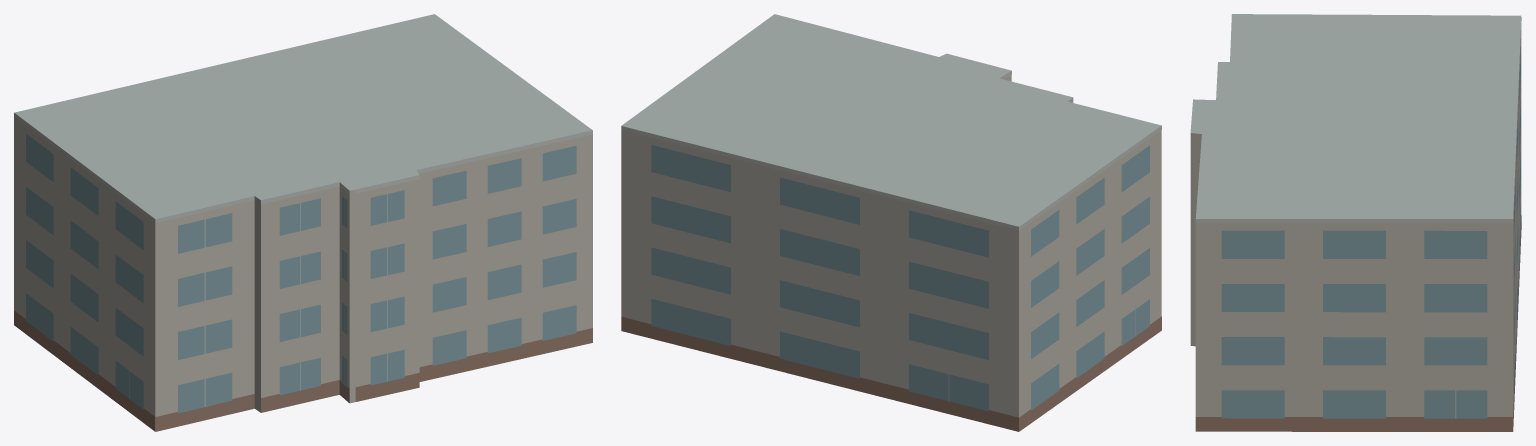
Rendered from survey-upis-32468548.glb.
3 views of the same model, side by side, from view 1: azimuth 30°, elevation 25°; view 2: azimuth 150°, elevation 25°; view 3: azimuth 270°, elevation 25° (orthographic). The views are drawn at different scales.
Visible parts, largest first — view 1: survey-upis-32468548.tmp; view 2: survey-upis-32468548.tmp; view 3: survey-upis-32468548.tmp.
Part boxes in pixels (x1,y1,x2,y2): survey-upis-32468548.tmp: (14,14,592,431); survey-upis-32468548.tmp: (621,14,1161,431); survey-upis-32468548.tmp: (1190,14,1521,431).
Size of the model in its own units: 25.22 by 12.2 by 17.2.
